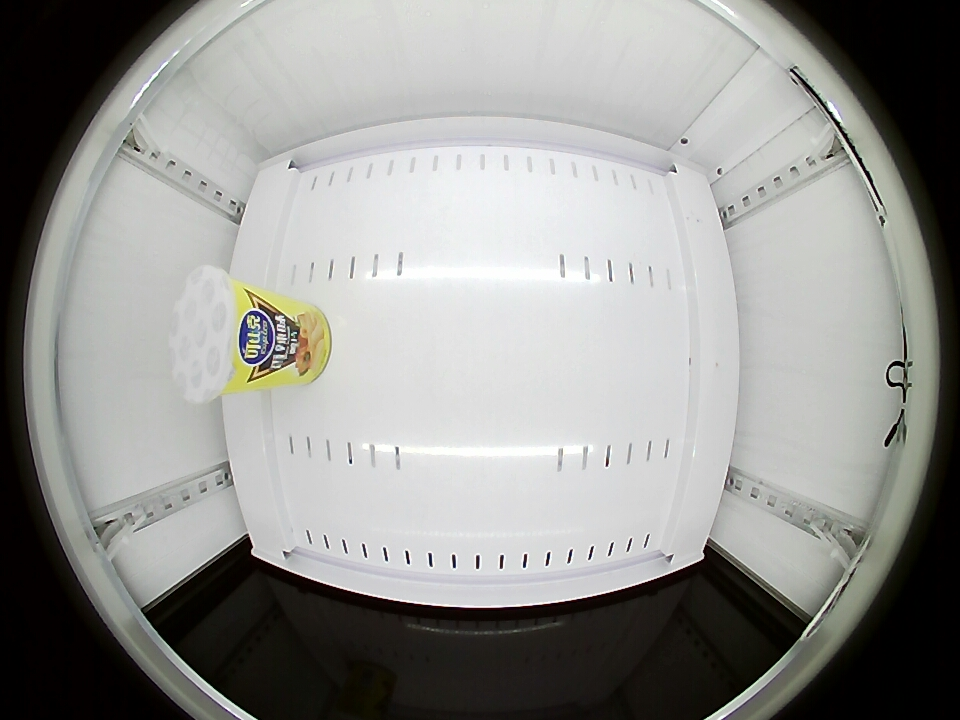kebike: (170, 265, 263, 403)
